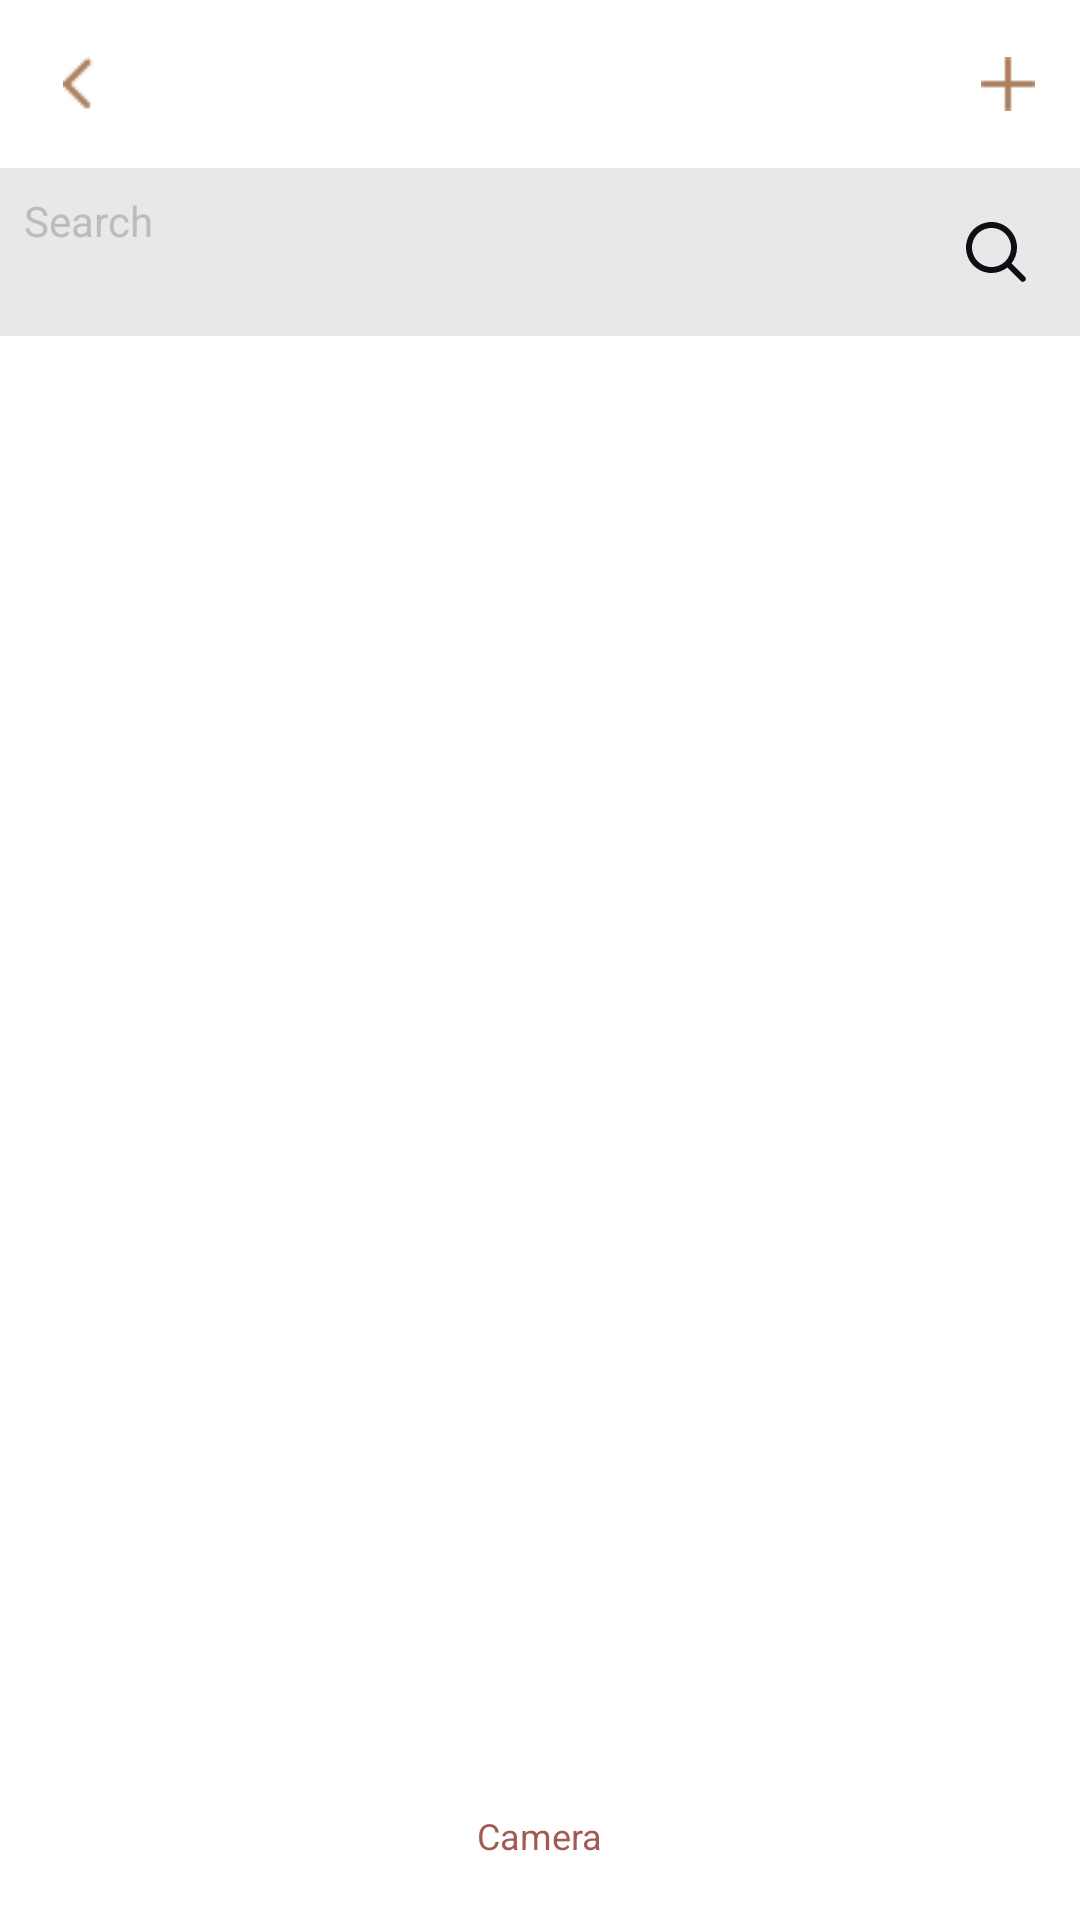

Where icons sit on this 1080*1920 app screen, as bbox=(x1, y1, x2, y2):
backbig: bbox=(63, 57, 93, 109)
plus: bbox=(981, 57, 1035, 111)
